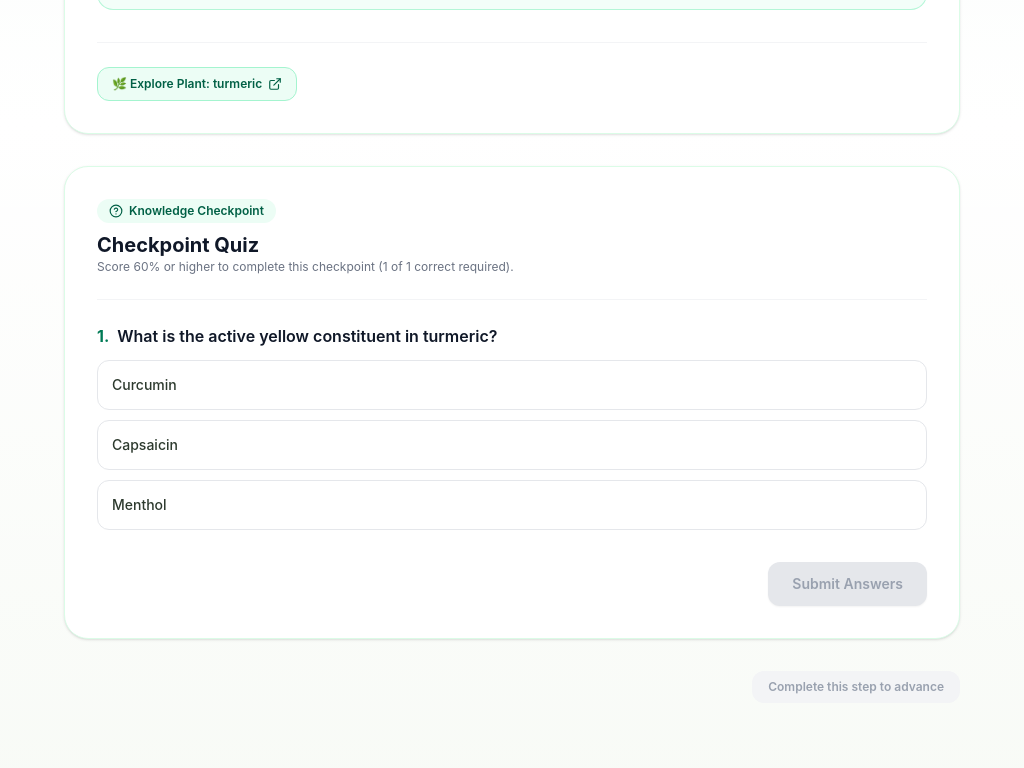
Scenario: Tours Module Frontend › TourCheckpointPage › submits quiz and displays explanations
(page scrolled)
Select first option
Click the button "Curcumin". click: [144, 384]
box: [97, 360, 927, 410]
(page scrolled)
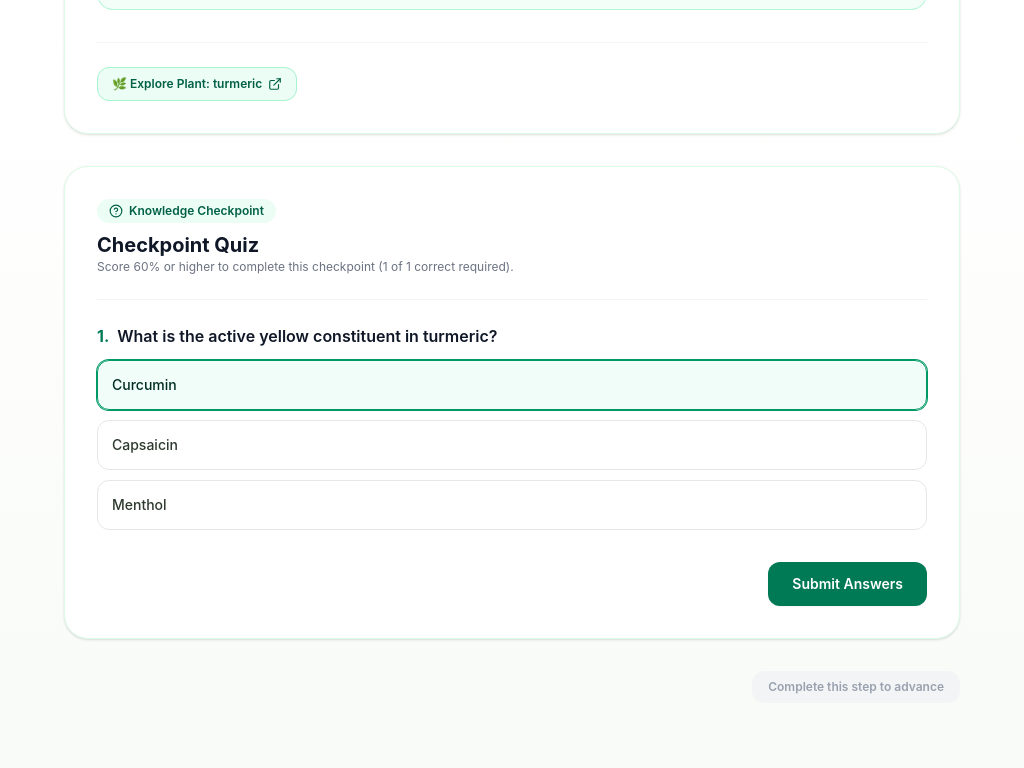
Submit quiz
Click the button "Submit Answers". click: [848, 584]
box: [768, 562, 927, 606]
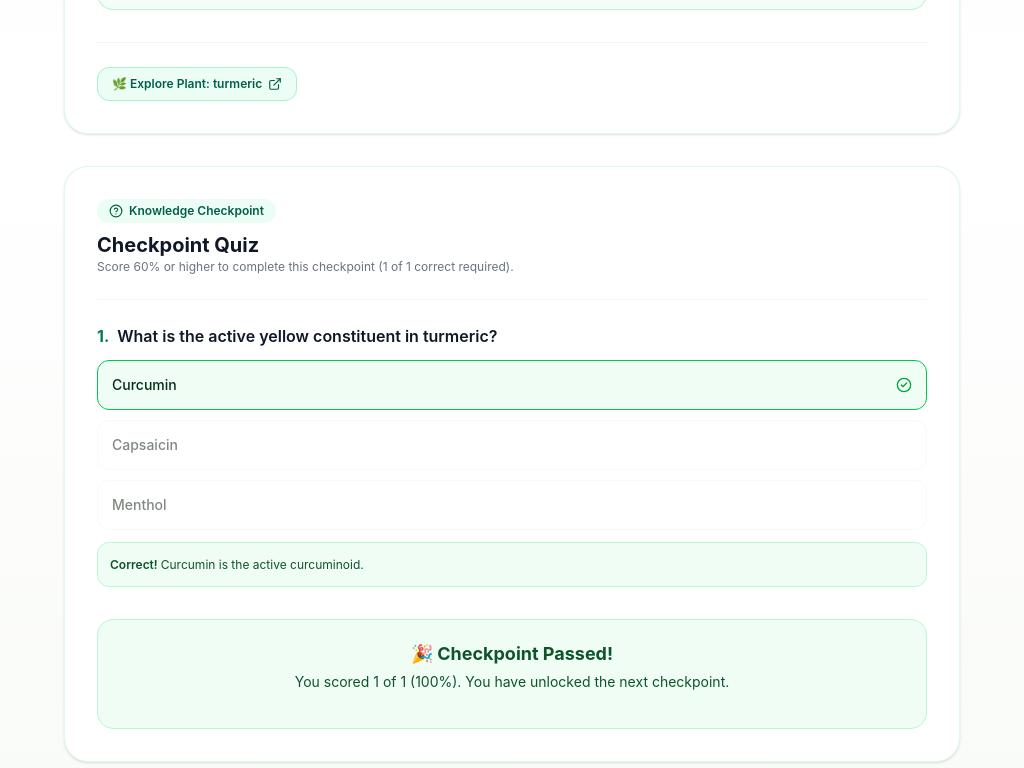
Result: the text "Correct! Curcumin is the active curcuminoid." is shown at [97, 542, 927, 587]
